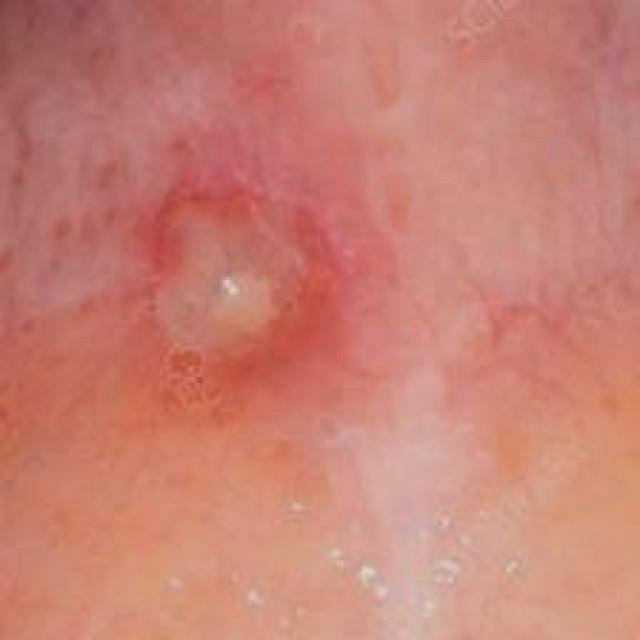others: (21, 15, 549, 542)
